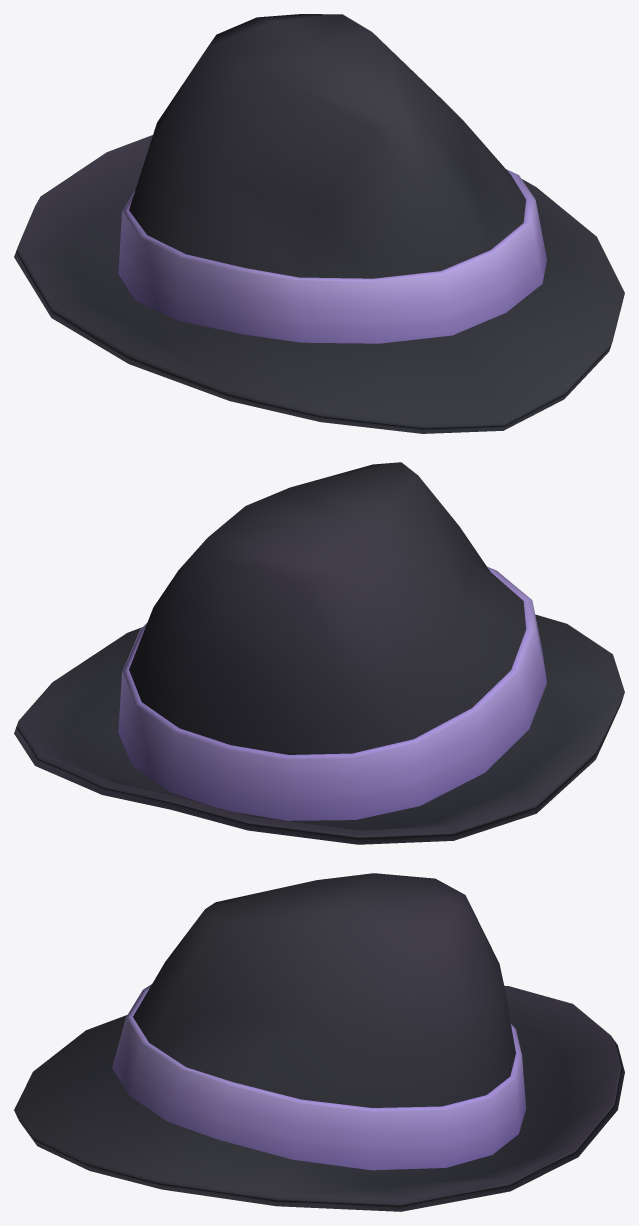
File: hat.glb
3 renders of one model, top to bottom at view 1: azimuth 30°, elevation 25°; view 2: azimuth 150°, elevation 25°; view 3: azimuth 270°, elevation 25°, orthographic. The views are drawn at different scales.
Size of the model in its own units: 0.4739 by 0.2254 by 0.5668.
1 material, 1 textured.
